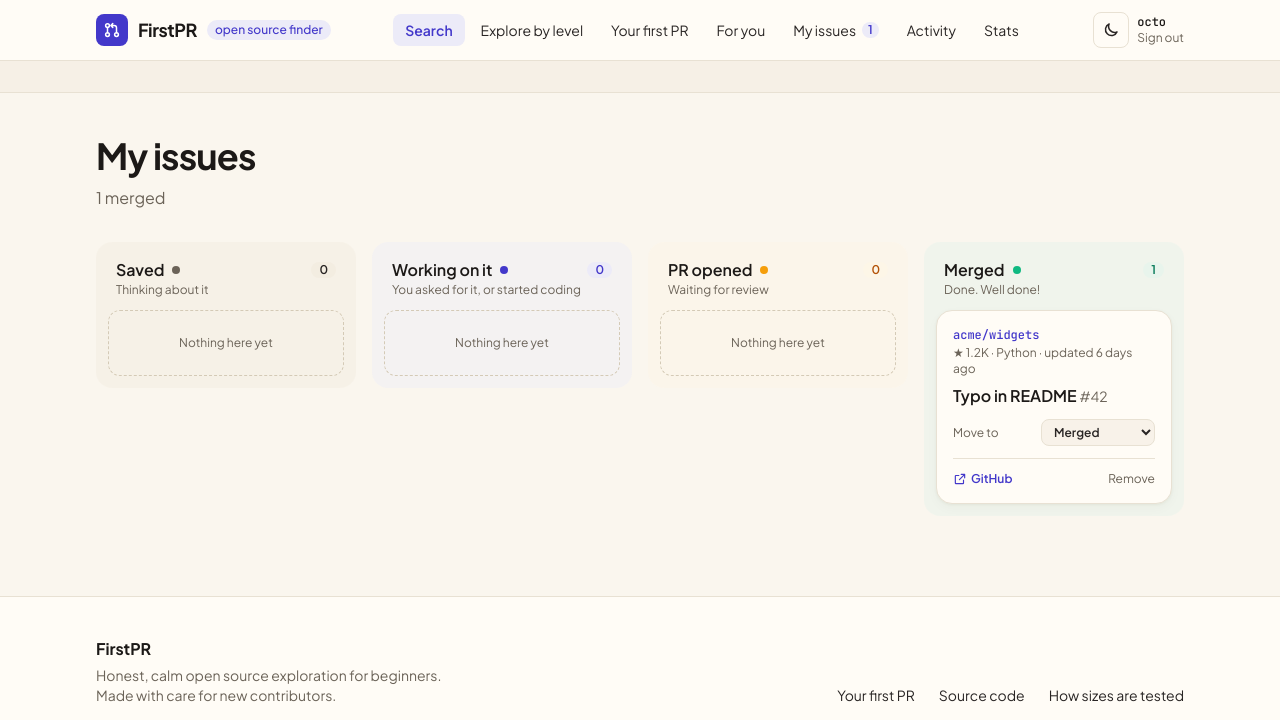
removes an issue from the list
This screenshot has width=1280, height=720.
What coordinates should you click on to do the following:
click the button "Remove"
I would click on:
 (1132, 479)
Its box is x1=1108 y1=471 x2=1155 y2=487.
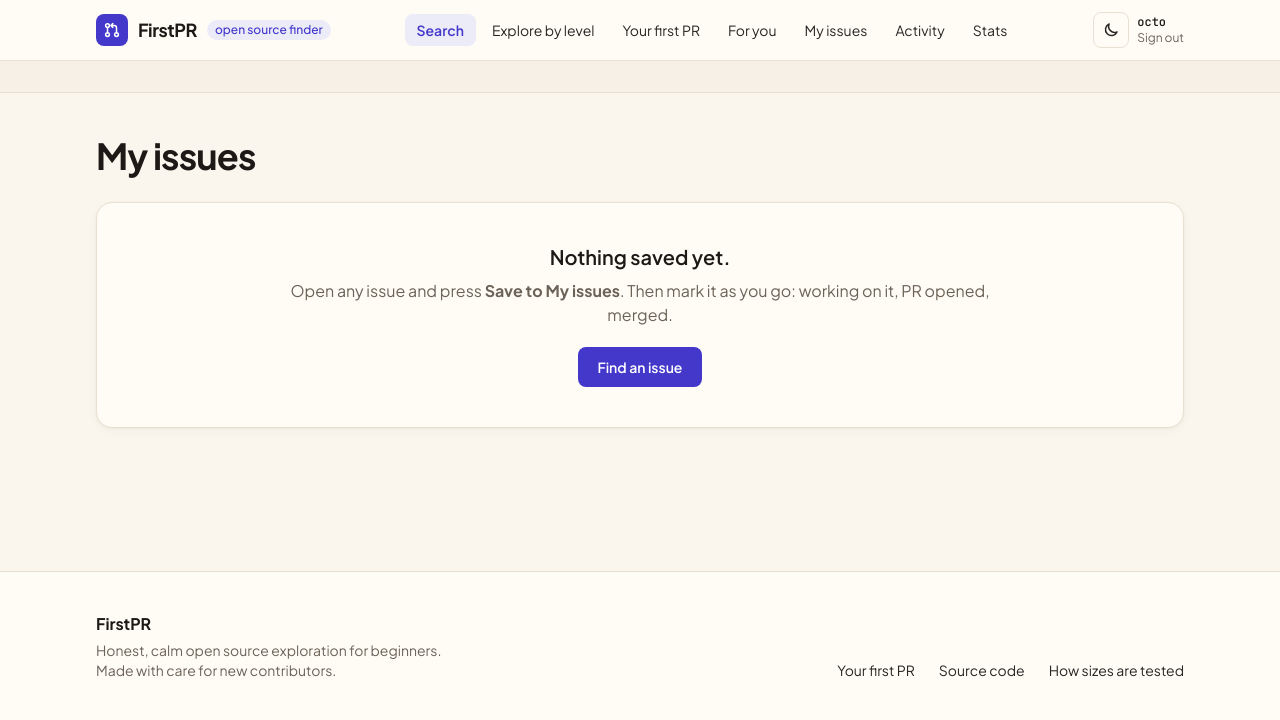
Result: the text "Nothing saved yet." is shown at x1=550 y1=244 x2=730 y2=269
